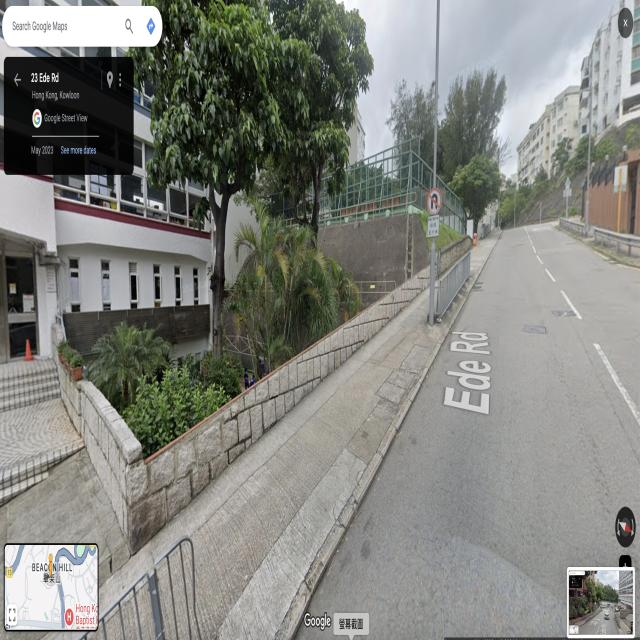Order-Sign: (428, 192, 441, 211), (428, 216, 438, 235)
